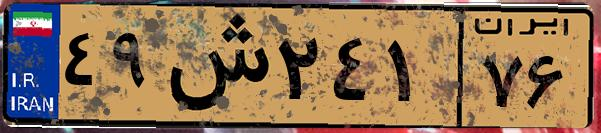1: (385, 28, 445, 110)
2: (270, 28, 330, 110)
4: (330, 28, 385, 110), (57, 26, 110, 100)
6: (525, 38, 570, 115)
7: (475, 38, 525, 113)
9: (110, 28, 158, 98)
ش: (158, 12, 270, 120)
